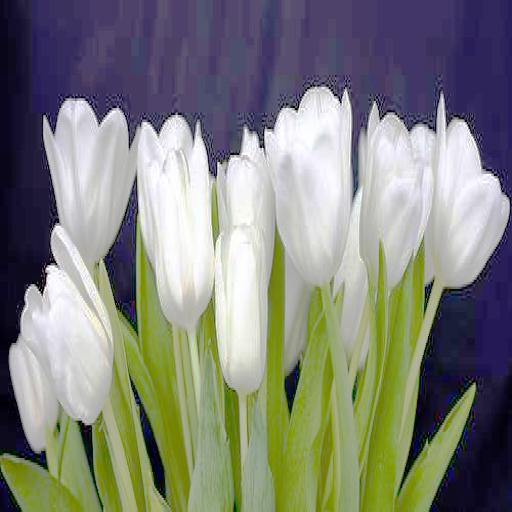tulip: (45, 84, 138, 280), (22, 232, 112, 430), (268, 87, 354, 282), (358, 96, 434, 286), (435, 101, 511, 287), (151, 124, 213, 329), (214, 223, 274, 397), (218, 124, 275, 254), (12, 338, 58, 449)
